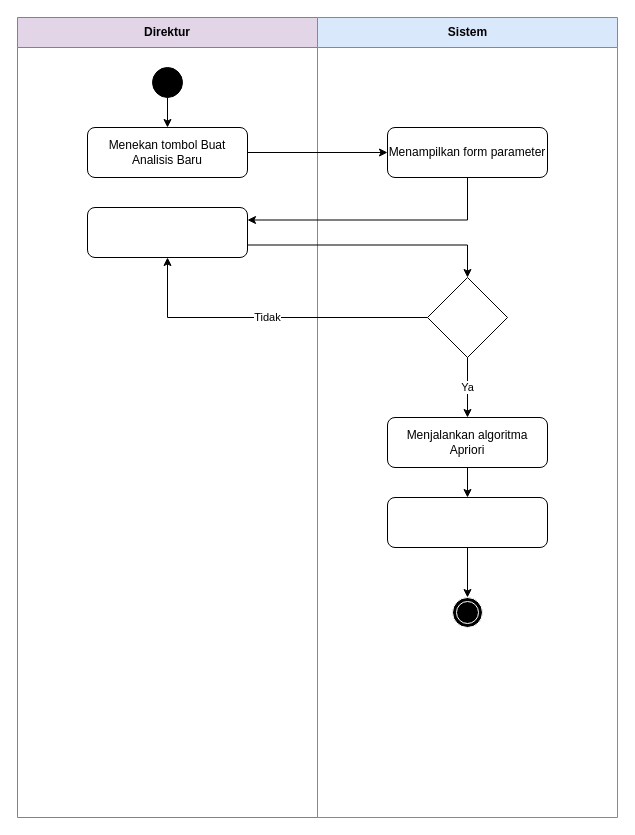
Some shapes in this 635 by 835 pixel diagram are drawn without their labels. Each missing label, with the centre of its shape:
Mengisi parameter dan menekan Proses: point (167, 232)
Menyimpan dan menampilkan hasil: point (467, 522)
Parameter Valid?: point (467, 317)
